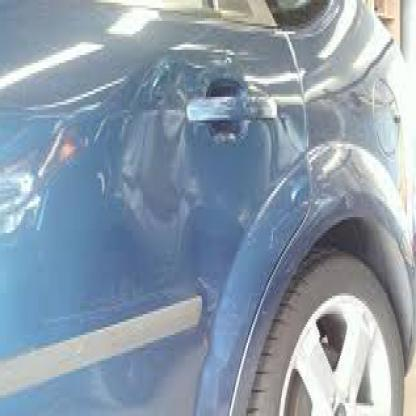dent: (122, 90, 188, 228)
